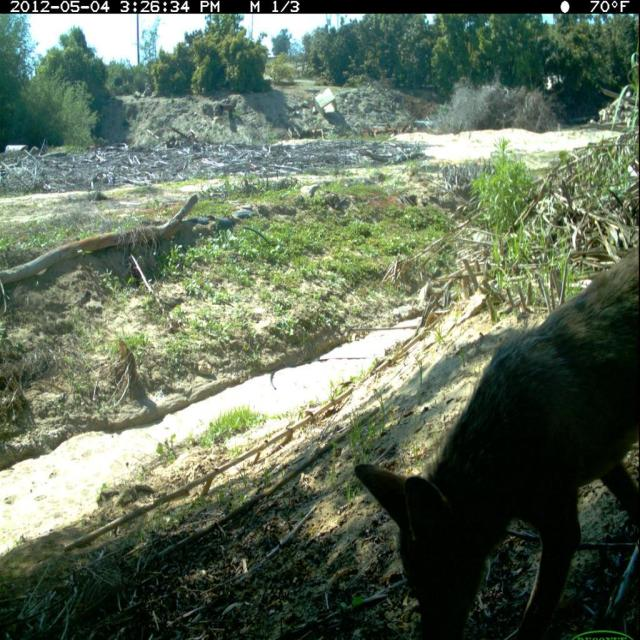coyote: (353, 233, 639, 640)
